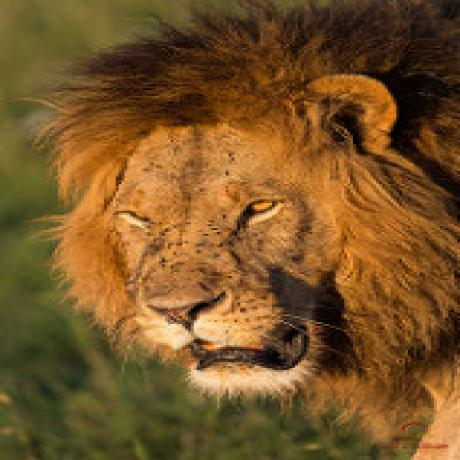Lion: (42, 0, 460, 460)
